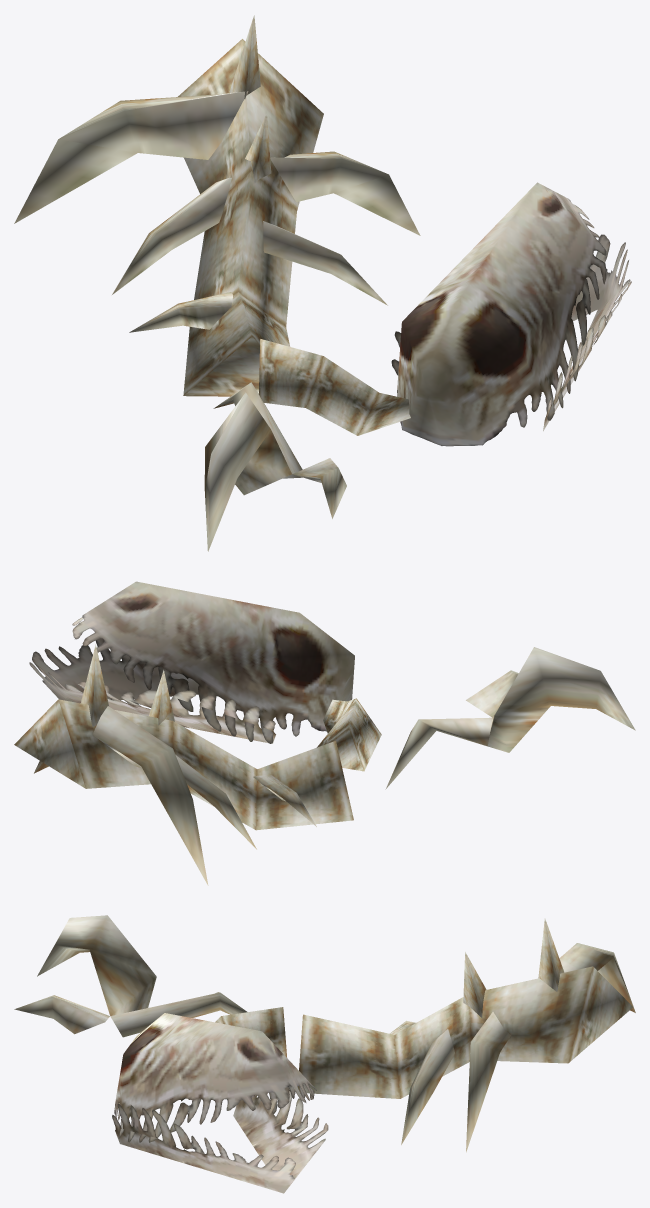
File: raptorbone01.obj
3 renders of one model, top to bottom at view 1: azimuth 30°, elevation 25°; view 2: azimuth 150°, elevation 25°; view 3: azimuth 270°, elevation 25°, orthographic. The views are drawn at different scales.
Parts seen in each view (by area): view 1: 0, 1; view 2: 0, 1; view 3: 0, 1.
Boxes of the visible parts, x1,y1,x2,y2 form: 0: (14, 15, 420, 551); 1: (391, 182, 631, 446); 0: (14, 644, 635, 885); 1: (29, 581, 354, 743); 0: (14, 915, 635, 1152); 1: (112, 1013, 328, 1193).
Size of the model in its own units: 2.57 by 1.18 by 2.83.
1 material, 1 textured.
